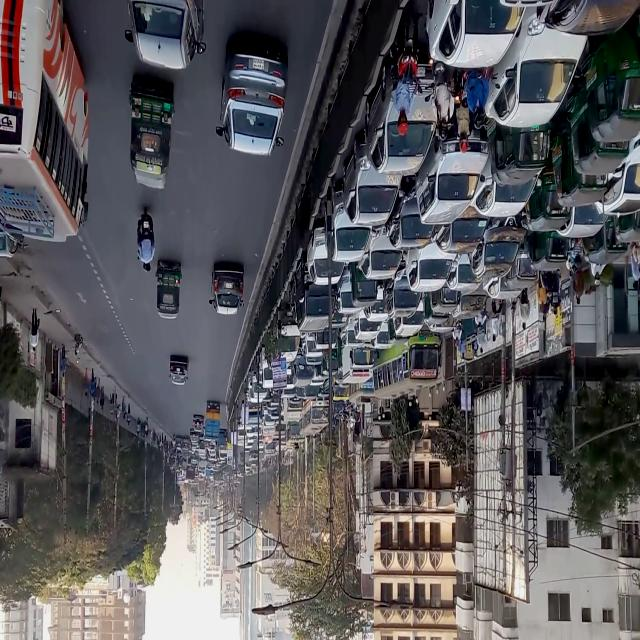black: (124, 0, 205, 66), (468, 215, 530, 277), (387, 173, 436, 250), (288, 261, 338, 330), (436, 202, 487, 255), (384, 270, 419, 320), (454, 283, 490, 321)
maroon: (208, 262, 244, 317), (169, 350, 190, 387), (194, 414, 204, 433)
silver: (360, 55, 447, 169), (219, 39, 287, 166), (410, 121, 488, 221), (341, 146, 406, 222), (358, 227, 406, 276), (336, 271, 364, 316)
white: (485, 0, 591, 125), (428, 0, 525, 71), (474, 135, 546, 221), (595, 130, 640, 219), (405, 247, 452, 294), (306, 227, 344, 285), (390, 297, 426, 335), (275, 309, 301, 361), (352, 306, 382, 338), (364, 284, 387, 322), (260, 349, 282, 388)
